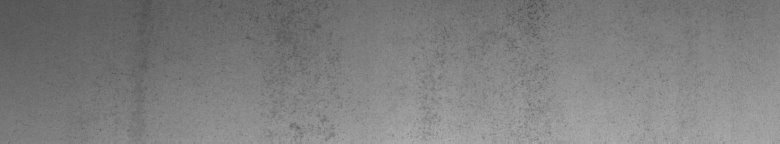ib: (245, 9, 329, 134)
